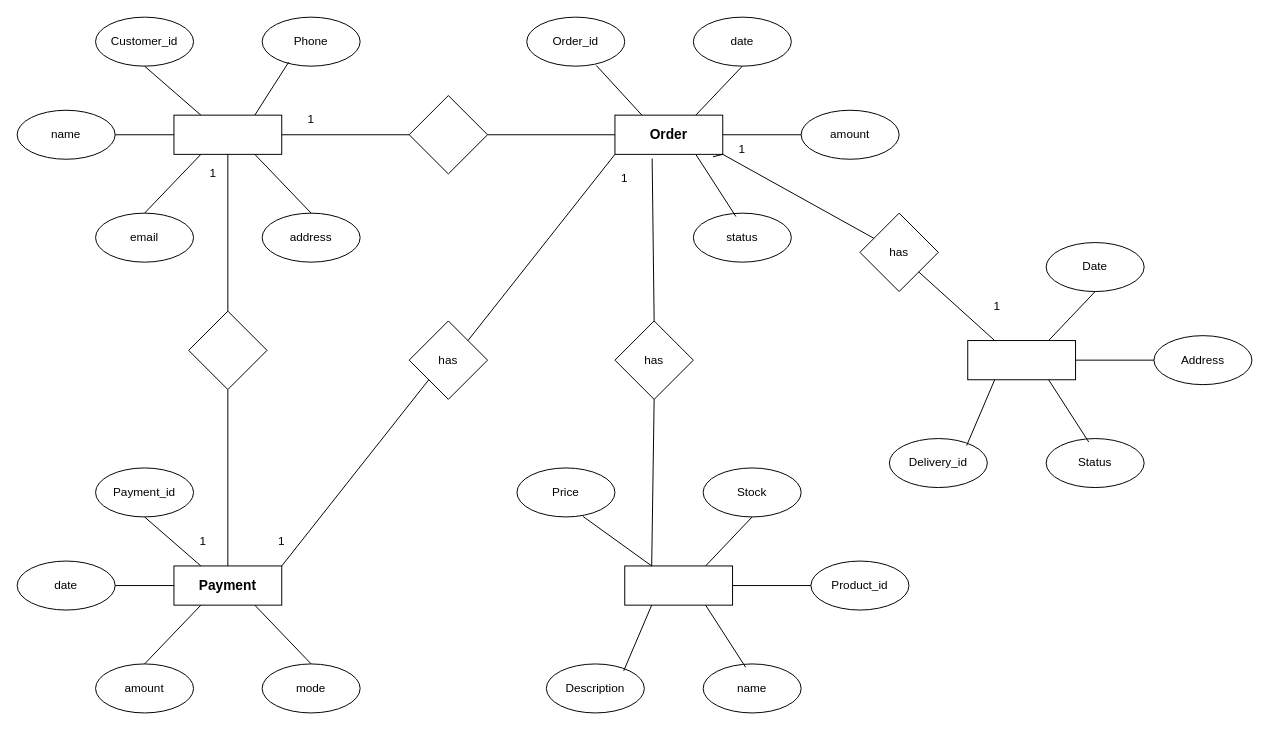
This 1269x730 diagram has some shape labels left out. The centre of each missing label's shape, as x and y in pixels:
Customer: the point at 227,134
Delivery: the point at 1021,360
do: the point at 227,350
enroll: the point at 448,134
Product: the point at 678,585
